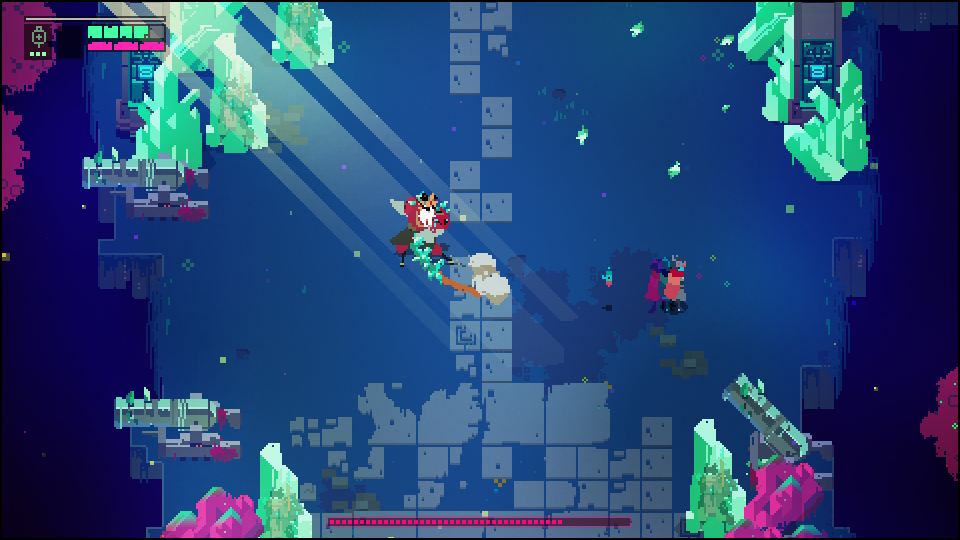hanged_man: (385, 185, 467, 293)
player: (661, 254, 691, 314)
